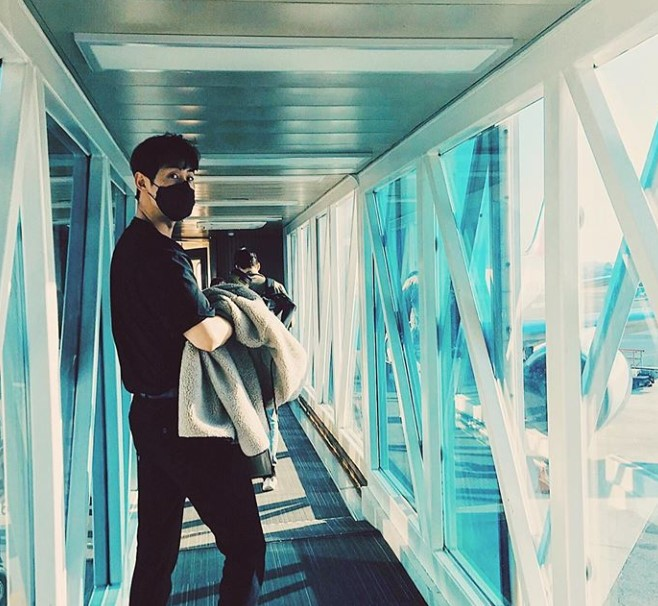face_with_mask: (129, 136, 198, 222)
